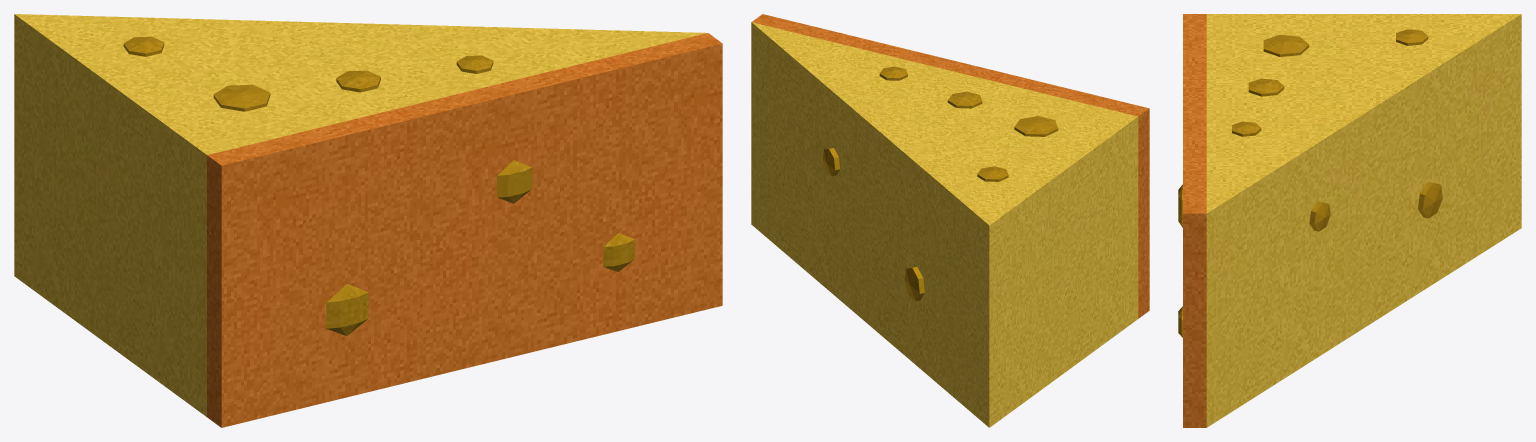
The picture shows the model from 3 angles, left to right: view 1: azimuth 30°, elevation 25°; view 2: azimuth 150°, elevation 25°; view 3: azimuth 270°, elevation 25°; orthographic projection. The views are drawn at different scales.
Visible parts, largest first — view 1: cheese_wedge; view 2: cheese_wedge; view 3: cheese_wedge.
Boxes of the visible parts, bbox=[...] form: cheese_wedge: bbox=[14, 14, 722, 427]; cheese_wedge: bbox=[751, 14, 1149, 427]; cheese_wedge: bbox=[1178, 14, 1521, 427].
Size of the model in its own units: 0.12 by 0.0615 by 0.0872.
Materials: 3 (3 with a texture image).
